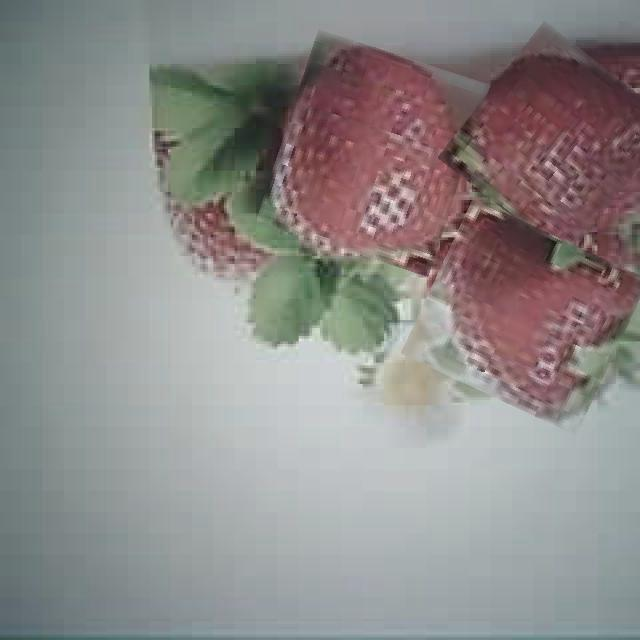strawberry: (270, 40, 478, 266), (414, 214, 636, 418), (456, 37, 640, 243)
